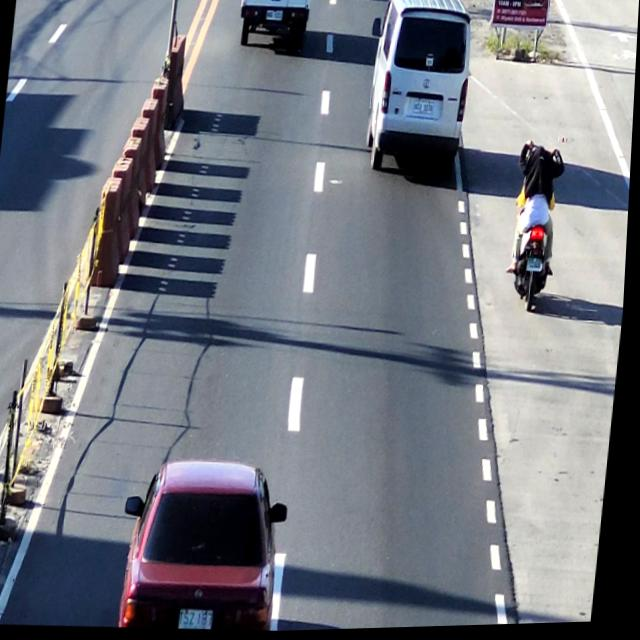Car: (123, 463, 290, 636), (367, 0, 473, 173), (236, 0, 313, 48)
License-Plate: (182, 607, 225, 632), (412, 101, 436, 120), (263, 10, 285, 25)
Motorcycle: (508, 143, 561, 318)
